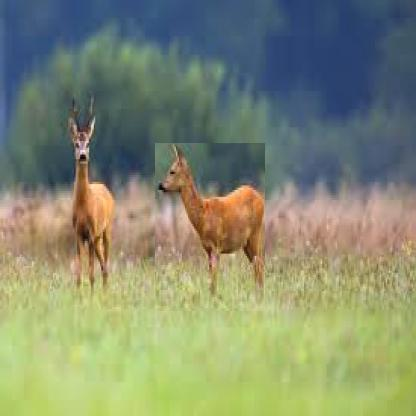Deer: (156, 144, 266, 312), (64, 91, 116, 299)
